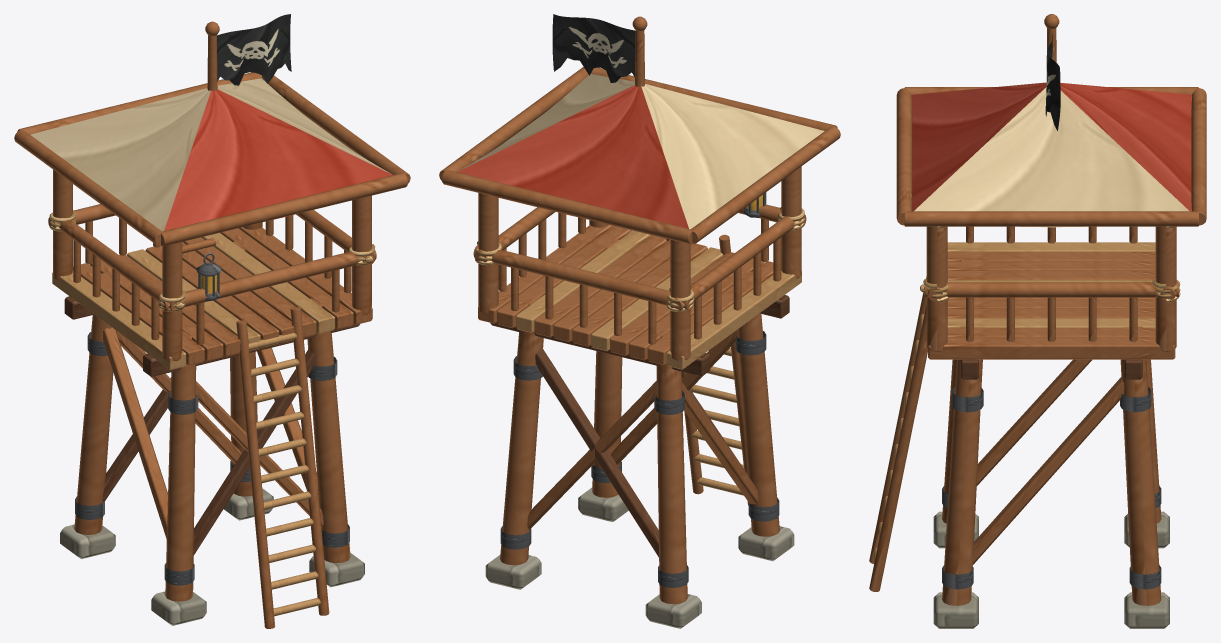
Rendered from SM_Watchtower.glb.
The picture shows the model from 3 angles, left to right: view 1: azimuth 30°, elevation 25°; view 2: azimuth 150°, elevation 25°; view 3: azimuth 270°, elevation 25°; orthographic projection. The views are drawn at different scales.
Visible parts, largest first — view 1: SM_Watchtower; view 2: SM_Watchtower; view 3: SM_Watchtower.
Boxes of the visible parts, x1,y1,x2,y2 form: SM_Watchtower: [14, 14, 410, 628]; SM_Watchtower: [439, 14, 840, 628]; SM_Watchtower: [869, 14, 1206, 628].
Size of the model in its own units: 3.41 by 6.88 by 3.71.
Materials: 1 (1 with a texture image).
